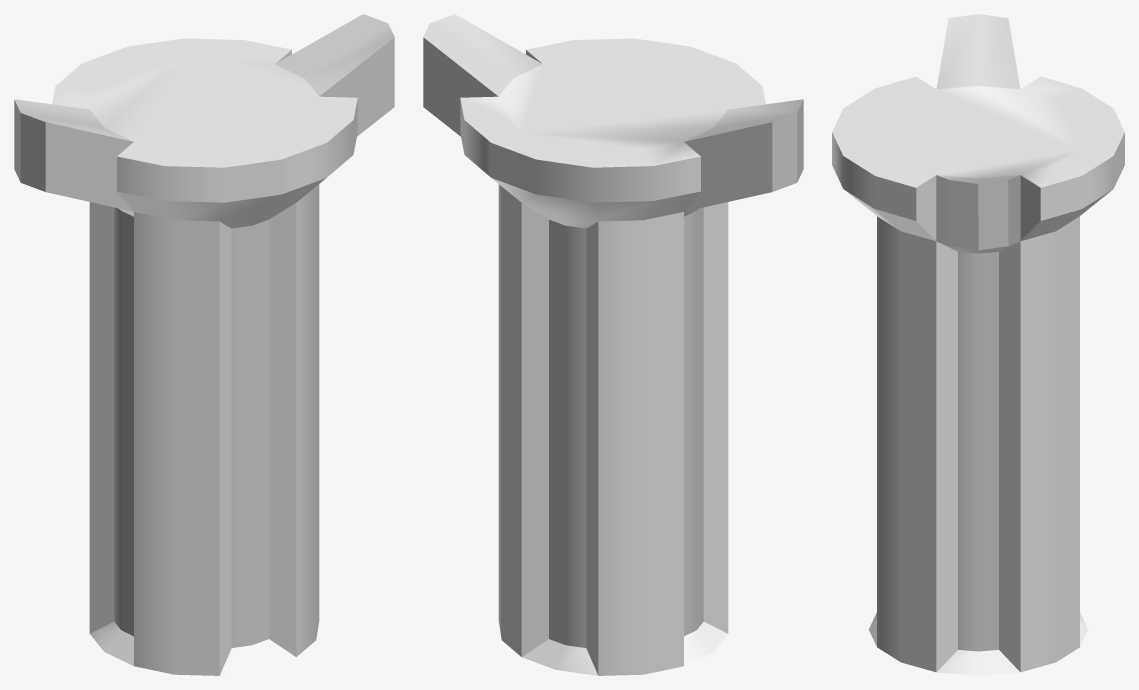
The model's file is cot 1.fbx.
3 views of the same model, side by side, from view 1: azimuth 30°, elevation 25°; view 2: azimuth 150°, elevation 25°; view 3: azimuth 270°, elevation 25° (orthographic). The views are drawn at different scales.
Visible parts, largest first — view 1: cot_1; view 2: cot_1; view 3: cot_1.
Part boxes in pixels (x1,y1,x2,y2): cot_1: [14, 14, 394, 675]; cot_1: [423, 14, 803, 675]; cot_1: [832, 14, 1124, 675].
Bounding box in the file's own units: 11 × 16 × 8.
Materials: 1 (1 with a texture image).
